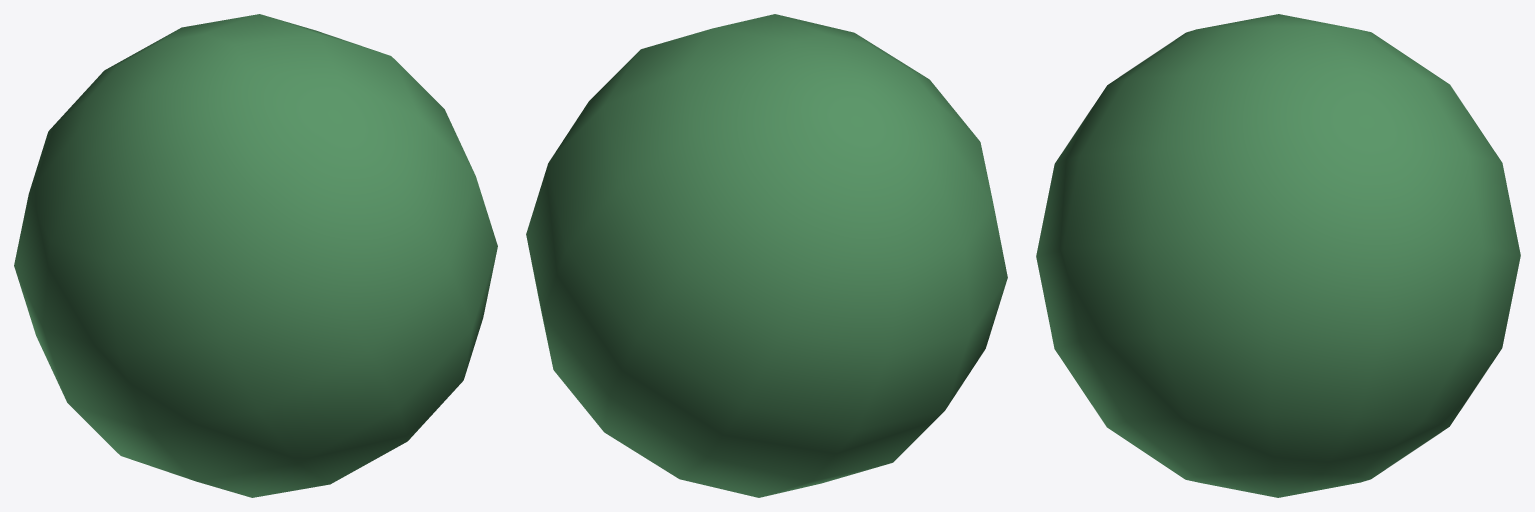
3 renders of one model, left to right at view 1: azimuth 30°, elevation 25°; view 2: azimuth 150°, elevation 25°; view 3: azimuth 270°, elevation 25°, orthographic.
Visible parts, largest first — view 1: 左侧鼻唇淋巴结; view 2: 左侧鼻唇淋巴结; view 3: 左侧鼻唇淋巴结.
Boxes of the visible parts, x1,y1,x2,y2 form: 左侧鼻唇淋巴结: (14,14,497,497); 左侧鼻唇淋巴结: (526,14,1007,497); 左侧鼻唇淋巴结: (1036,14,1520,497).
Size of the model in its own units: 0.0038 by 0.00381 by 0.00383.
